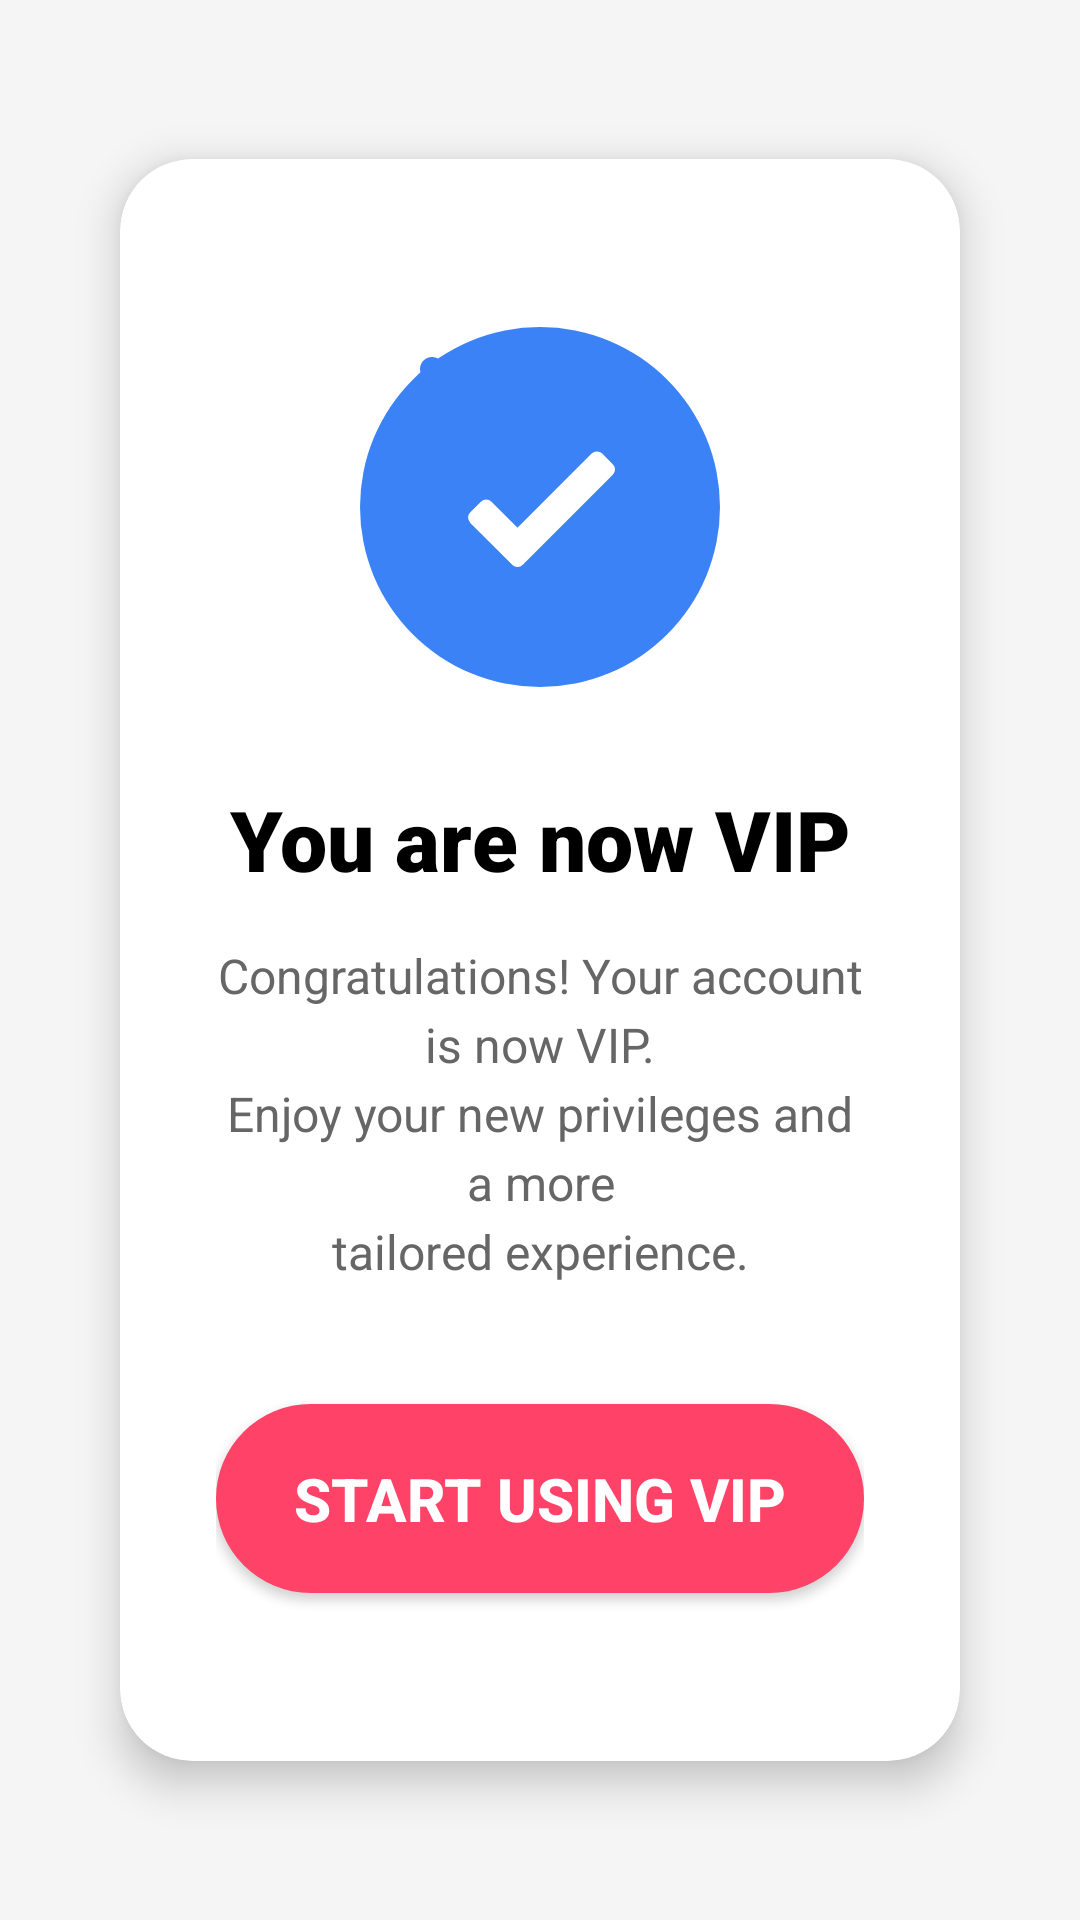

Icons on this 1080px x 1920px Android screen, each with the point to tap as (x=x, y=y):
Success Icon: (x=541, y=509)
